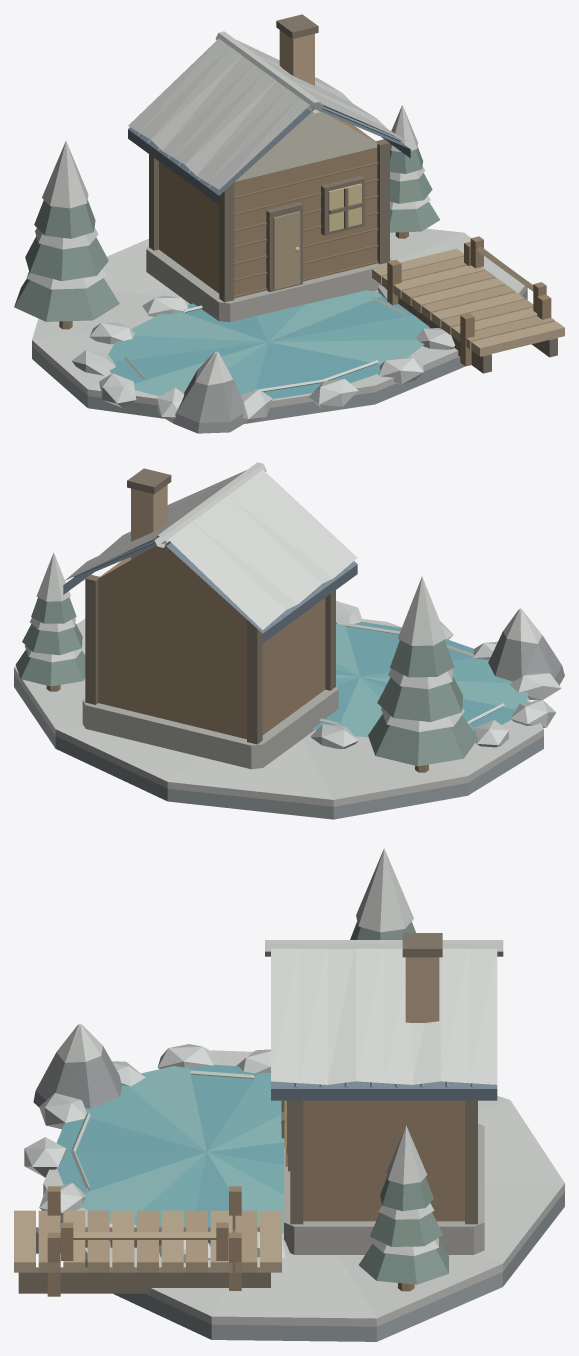
3 views of the same model, one above another, from view 1: azimuth 30°, elevation 25°; view 2: azimuth 150°, elevation 25°; view 3: azimuth 270°, elevation 25° (orthographic). The views are drawn at different scales.
Parts seen in each view (by area): view 1: S12; view 2: S12; view 3: S12.
Boxes of the visible parts, <box> form: S12: <box>14,14,564,433</box>; S12: <box>14,462,564,819</box>; S12: <box>14,848,564,1341</box>.
Size of the model in its own units: 4.9 by 2.65 by 4.26.
